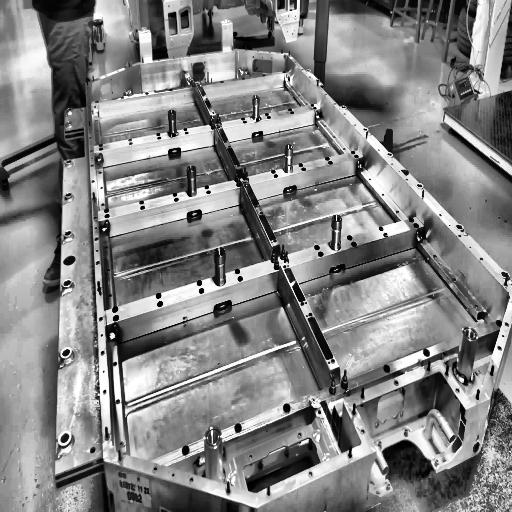b_casing: (54, 48, 512, 508)
